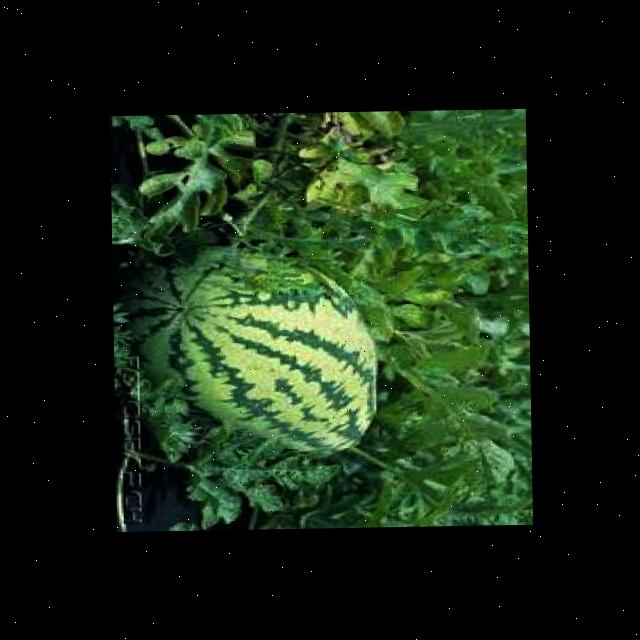watermelon: (120, 242, 377, 464)
